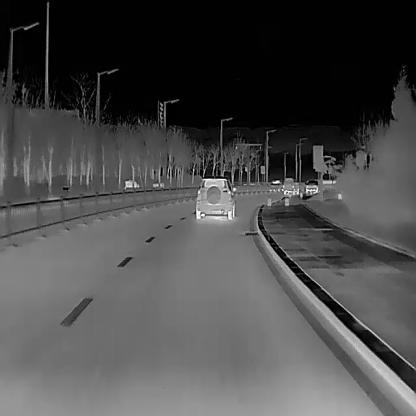car: (195, 176, 236, 219), (282, 177, 299, 193), (304, 179, 320, 193), (125, 180, 141, 188), (268, 179, 283, 186), (152, 182, 165, 188)
